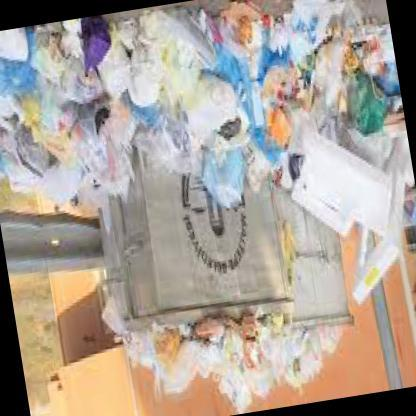Garbage: (108, 0, 405, 212), (0, 16, 135, 218), (121, 312, 346, 415), (272, 0, 385, 102), (136, 25, 230, 146), (56, 92, 130, 194), (125, 317, 208, 404), (43, 19, 109, 122), (212, 0, 282, 92), (0, 93, 63, 173), (0, 46, 47, 135), (228, 322, 270, 398), (277, 330, 332, 388)
